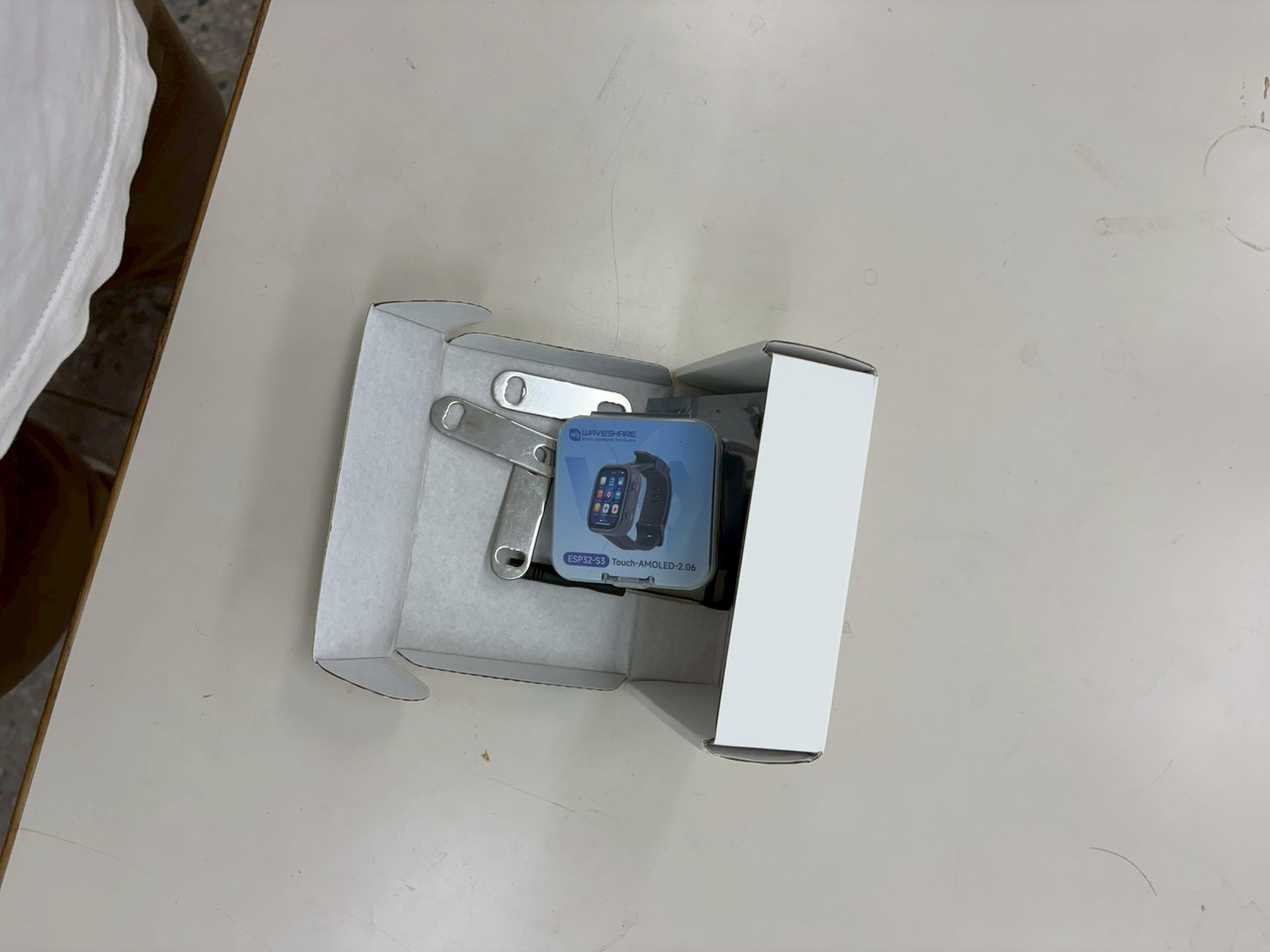Fe: (484, 409, 526, 563), (423, 428, 465, 581), (517, 429, 559, 582)
